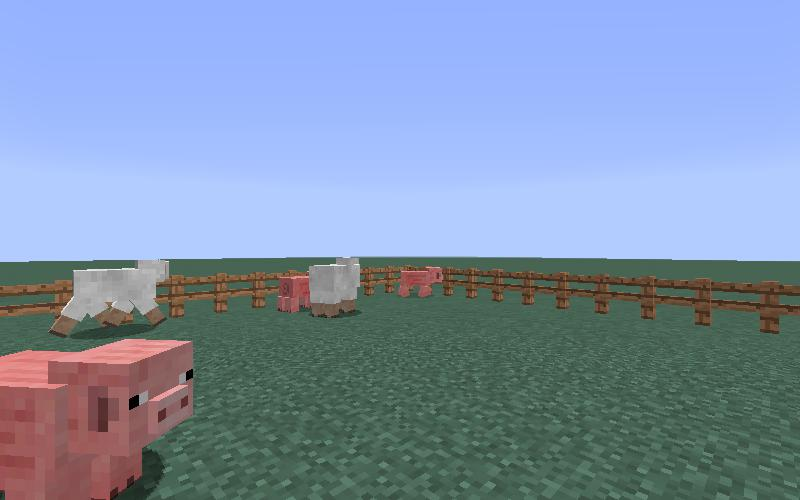pig: (1, 330, 198, 497), (396, 261, 447, 304), (276, 271, 310, 315)
sheep: (47, 253, 179, 338), (304, 253, 366, 323)
